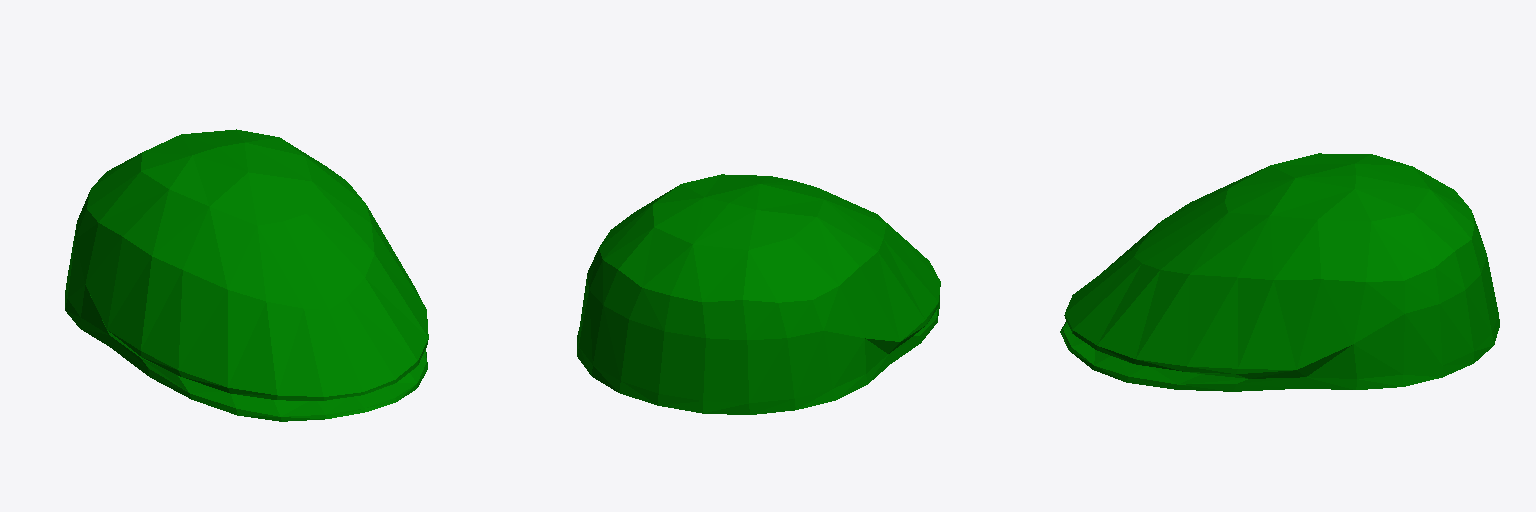
File: hat03.obj
3 renders of one model, left to right at view 1: azimuth 30°, elevation 25°; view 2: azimuth 150°, elevation 25°; view 3: azimuth 270°, elevation 25°, orthographic.
Parts seen in each view (by area): view 1: Cap_low; view 2: Cap_low; view 3: Cap_low.
Boxes of the visible parts, x1=… form: Cap_low: x1=65, y1=129, x2=428, y2=421; Cap_low: x1=577, y1=174, x2=940, y2=414; Cap_low: x1=1060, y1=153, x2=1499, y2=391.
Size of the model in its own units: 0.1487 by 0.0817 by 0.2018.